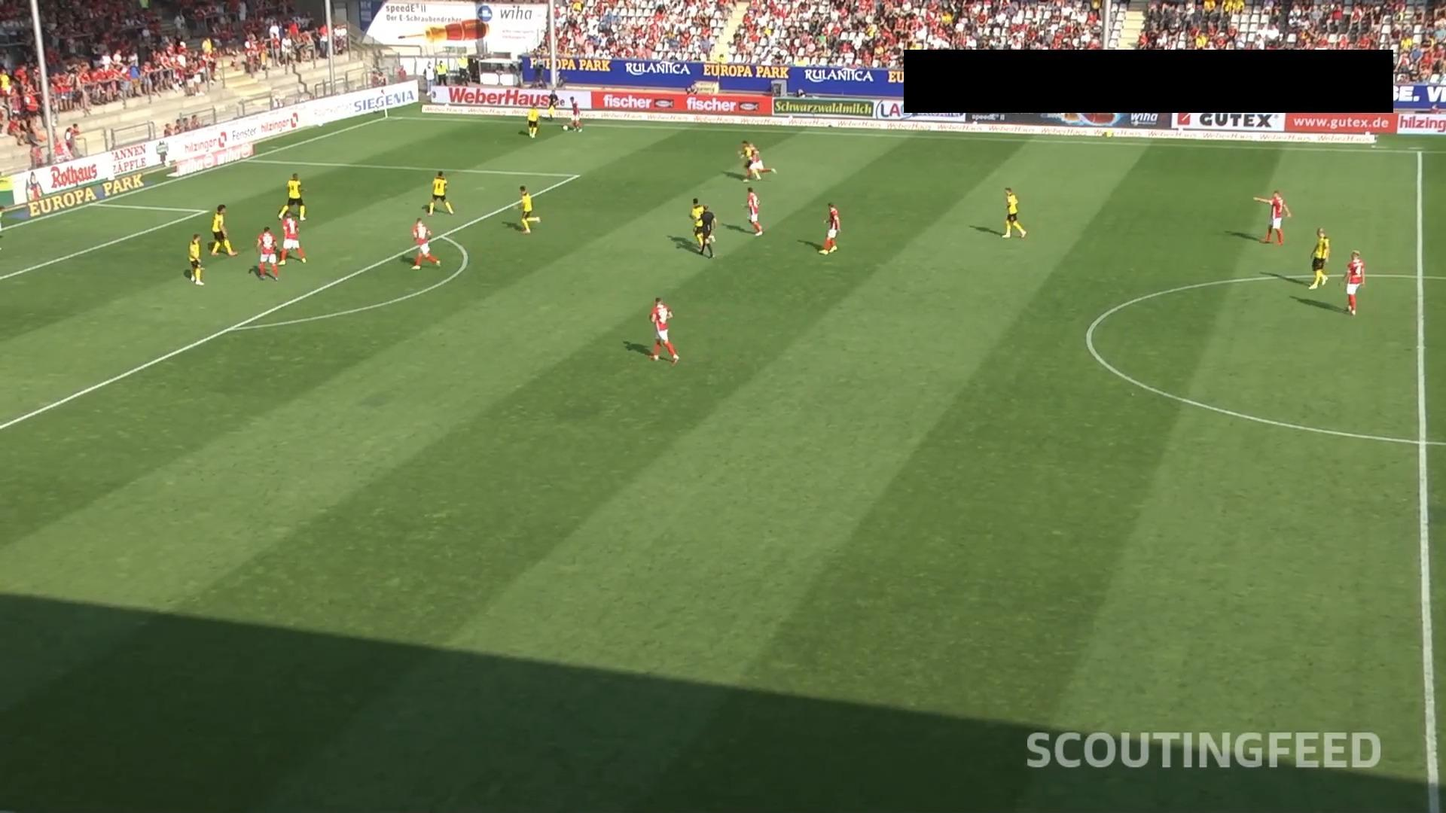ball: (563, 125, 569, 131)
goalkeeper: (0, 202, 7, 256)
player: (647, 293, 683, 364), (1252, 190, 1293, 248), (407, 213, 444, 271), (1337, 250, 1365, 318), (207, 202, 239, 260), (816, 200, 847, 257), (277, 211, 309, 266), (1307, 227, 1332, 292), (512, 184, 543, 236), (277, 173, 309, 222), (688, 196, 716, 250), (255, 225, 281, 282), (426, 168, 455, 218), (749, 140, 778, 185), (1003, 187, 1027, 240), (738, 137, 763, 186), (185, 235, 208, 287), (743, 186, 765, 239), (525, 102, 541, 142), (569, 96, 584, 133)
referee: (694, 204, 717, 260), (548, 90, 559, 124)
